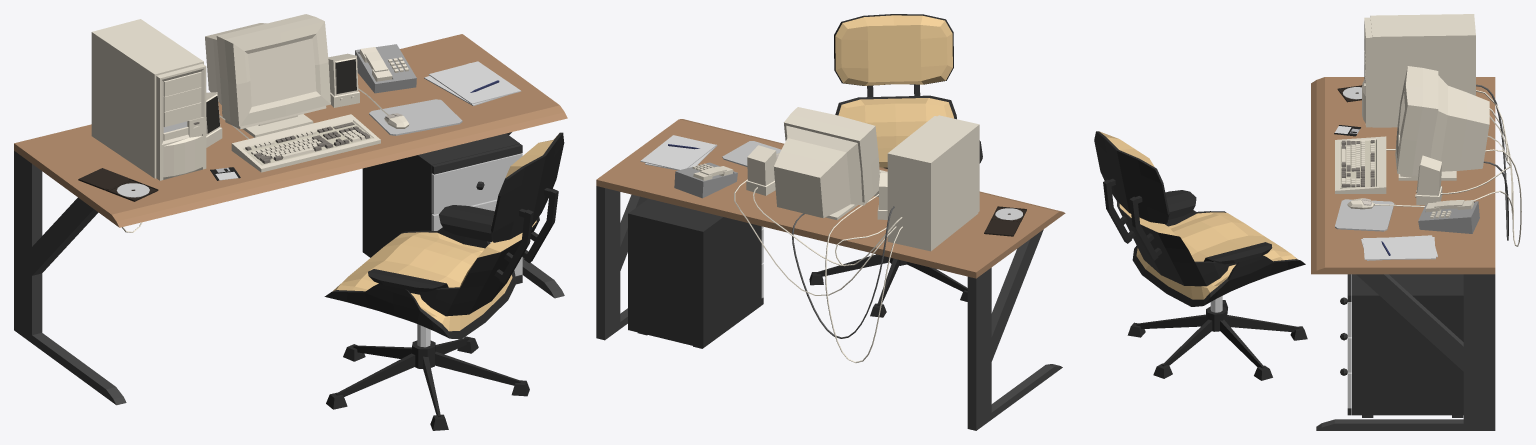
The picture shows the model from 3 angles, left to right: view 1: azimuth 30°, elevation 25°; view 2: azimuth 150°, elevation 25°; view 3: azimuth 270°, elevation 25°; orthographic projection. The views are drawn at different scales.
Parts seen in each view (by area): view 1: Office_desk, Cube.000, Computer_case, Computer_monitor.001, Drawers, Keyboard, Paper2, Mousepad, Phone_stand, SpeakerL, CD_case, SpeakerR (+1 smaller); view 2: Office_desk, Drawers, Cube.000, Computer_case, Computer_monitor.001, Paper2, SpeakerL, Phone_stand, CD_case, Monitor_cable, KeyboardCable, Mousepad (+2 smaller); view 3: Office_desk, Cube.000, Drawers, Computer_case, Computer_monitor.001, Keyboard, Paper2, Mousepad, Phone_stand, SpeakerL, Monitor_cable, KeyboardCable (+1 smaller).
Part boxes in pixels (left/top/right/bottom): Office_desk: left=14, top=34, right=567, bottom=405; Cube.000: left=324, top=132, right=564, bottom=430; Computer_case: left=91, top=19, right=206, bottom=180; Computer_monitor.001: left=205, top=14, right=330, bottom=137; Drawers: left=362, top=133, right=522, bottom=284; Keyboard: left=231, top=114, right=380, bottom=172; Paper2: left=428, top=61, right=521, bottom=104; Mousepad: left=369, top=99, right=462, bottom=135; Phone_stand: left=355, top=44, right=416, bottom=93; SpeakerL: left=328, top=53, right=359, bottom=107; CD_case: left=78, top=168, right=158, bottom=201; SpeakerR: left=206, top=92, right=222, bottom=147; Office_desk: left=596, top=119, right=1065, bottom=430; Drawers: left=628, top=198, right=763, bottom=348; Cube.000: left=809, top=14, right=982, bottom=317; Computer_case: left=887, top=115, right=979, bottom=251; Computer_monitor.001: left=774, top=107, right=879, bottom=220; Paper2: left=640, top=135, right=716, bottom=170; SpeakerL: left=746, top=145, right=776, bottom=195; Phone_stand: left=674, top=162, right=737, bottom=198; CD_case: left=984, top=206, right=1026, bottom=236; Monitor_cable: left=792, top=206, right=894, bottom=338; KeyboardCable: left=825, top=194, right=902, bottom=362; Mousepad: left=722, top=141, right=781, bottom=166; Office_desk: left=1311, top=77, right=1495, bottom=430; Cube.000: left=1094, top=131, right=1307, bottom=380; Drawers: left=1340, top=274, right=1463, bottom=417; Computer_case: left=1362, top=14, right=1475, bottom=127; Computer_monitor.001: left=1395, top=66, right=1489, bottom=180; Keyboard: left=1335, top=136, right=1386, bottom=193; Paper2: left=1363, top=237, right=1435, bottom=259; Mousepad: left=1335, top=199, right=1394, bottom=231; Phone_stand: left=1418, top=201, right=1479, bottom=233; SpeakerL: left=1415, top=155, right=1442, bottom=205; Monitor_cable: left=1476, top=84, right=1508, bottom=240; KeyboardCable: left=1386, top=108, right=1521, bottom=246.
Size of the model in its own units: 188 by 116 by 178.
Materials: 2 (2 with a texture image).
